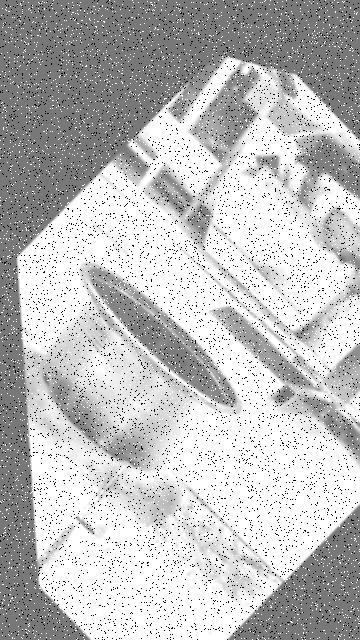pot: (42, 260, 242, 469)
